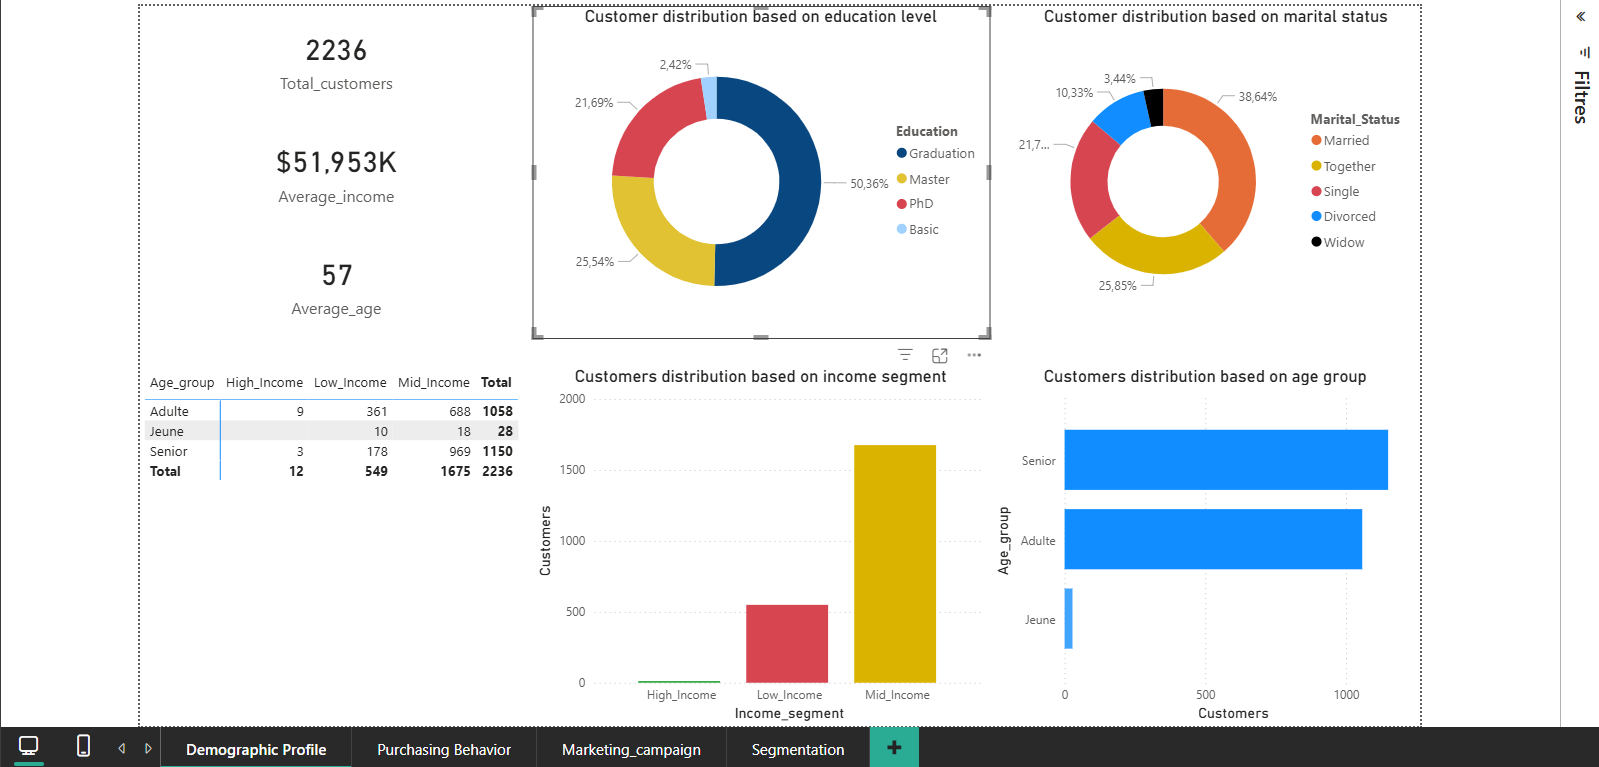

What the dashboard file says about the page in this screenshot:
{"tool":"powerbi","page":{"name":"Demographic Profile","canvas":[1280,720],"ordinal":0},"visuals":[{"type":"card","fields":{"Values":["dim_customer.Total_customers"]},"box":[0,0,393.1,105.7],"z":0},{"type":"card","fields":{"Values":["dim_customer.Average_income"]},"box":[0,105.7,393.1,118.2],"z":1000},{"type":"card","fields":{"Values":["dim_customer.Average_age"]},"box":[0,223.9,393.1,108.2],"z":2000},{"type":"donutChart","title":"Customer distribution based on education level","fields":{"Category":["dim_customer.Education"],"Y":["dim_customer.Total_customers"]},"box":[393.1,0,456.5,332.1],"z":3000},{"type":"donutChart","title":"Customer distribution based on marital status","fields":{"Category":["dim_customer.Marital_Status"],"Y":["dim_customer.Total_customers"]},"box":[870.8,0,409.3,332.1],"z":4000},{"type":"barChart","title":"Customers distribution based on age group","fields":{"Y":["dim_customer.Total_customers"],"Category":["dim_customer.Age_group"]},"box":[849.6,359.5,430.4,360.7],"z":5000},{"type":"clusteredColumnChart","title":"Customers distribution based on income segment","fields":{"Category":["dim_customer.Income_segment"],"Y":["dim_customer.Total_customers"]},"box":[393.1,359.5,456.5,360.7],"z":6000},{"type":"pivotTable","fields":{"Columns":["dim_customer.Income_segment"],"Values":["dim_customer.Total_customers"],"Rows":["dim_customer.Age_group"]},"box":[0,359.5,393.1,360.7],"z":7000}]}

Visuals, with their boxes on the page's 1280x720 design canvas (x1, y1, x2, y2). These are canvas units, not pixel positions in the 1599x767 screenshot, which may show the page scaled, cropped or inside an application window:
card - dim_customer.Total_customers: select_region(0, 0, 393, 106)
card - dim_customer.Average_income: select_region(0, 106, 393, 224)
card - dim_customer.Average_age: select_region(0, 224, 393, 332)
"Customer distribution based on education level" donutChart: select_region(393, 0, 850, 332)
"Customer distribution based on marital status" donutChart: select_region(871, 0, 1280, 332)
"Customers distribution based on age group" barChart: select_region(850, 360, 1280, 720)
"Customers distribution based on income segment" clusteredColumnChart: select_region(393, 360, 850, 720)
pivotTable - dim_customer.Income_segment x dim_customer.Total_customers: select_region(0, 360, 393, 720)
